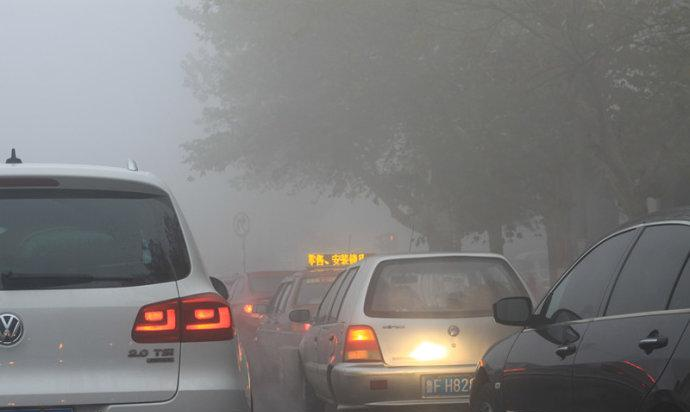car: (2, 144, 253, 412), (467, 207, 690, 412), (288, 252, 537, 412), (251, 252, 414, 388), (223, 266, 330, 359)
